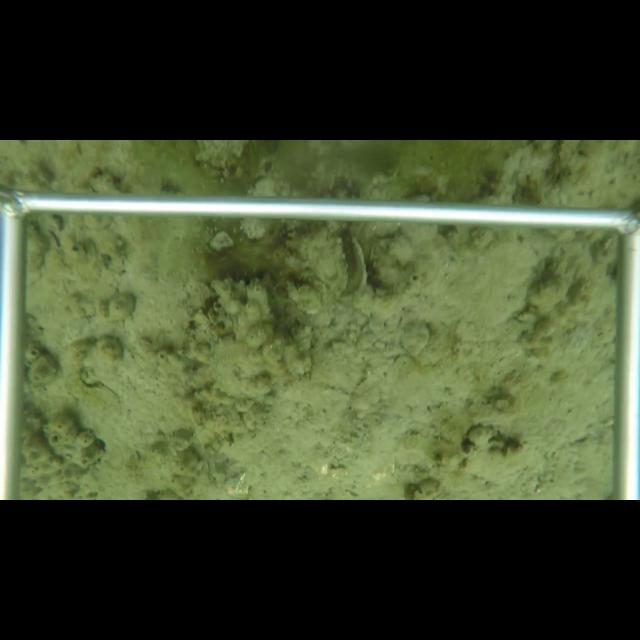Oyster-Closed: (399, 316, 432, 363)
Oyster-Open: (307, 236, 368, 299)
